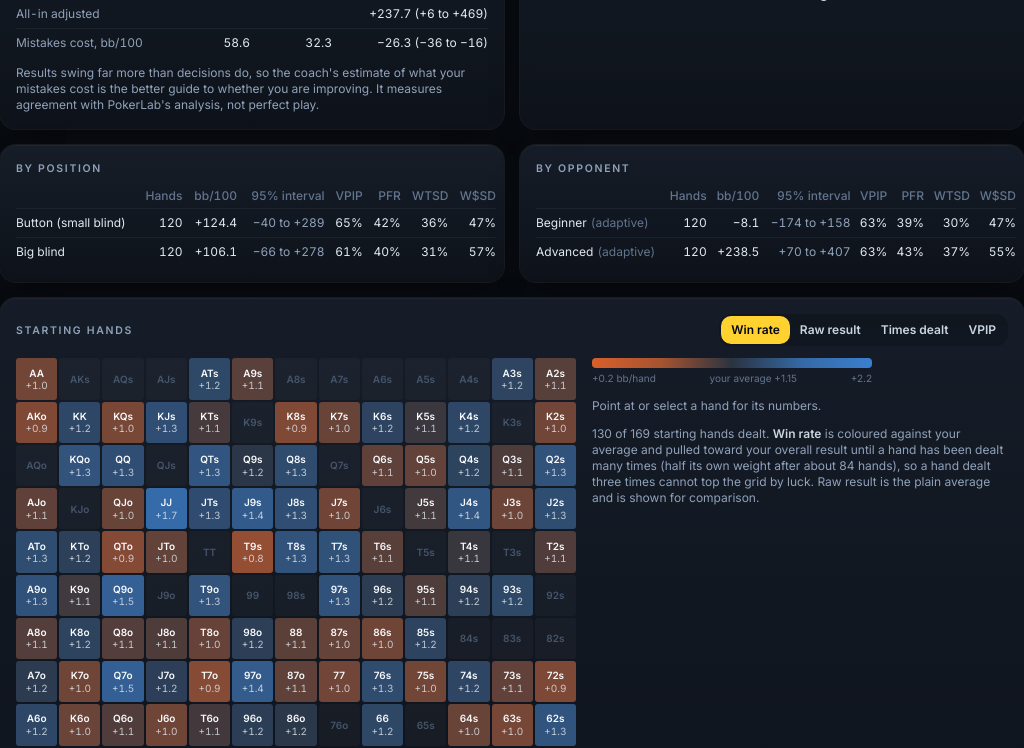
Test case: Stats view › shows the win rate with its interval, verdict, chart, luck, trend, segments and grid
(page scrolled)
Expected: the row with test id "trend-quality" is shown, x1=16 y1=28 x2=488 y2=57
Expected: the text "Beginner" is shown, x1=536 y1=216 x2=587 y2=230
Click the button "AA +1.0". click: (37, 379)
box: x1=16 y1=358 x2=57 y2=400
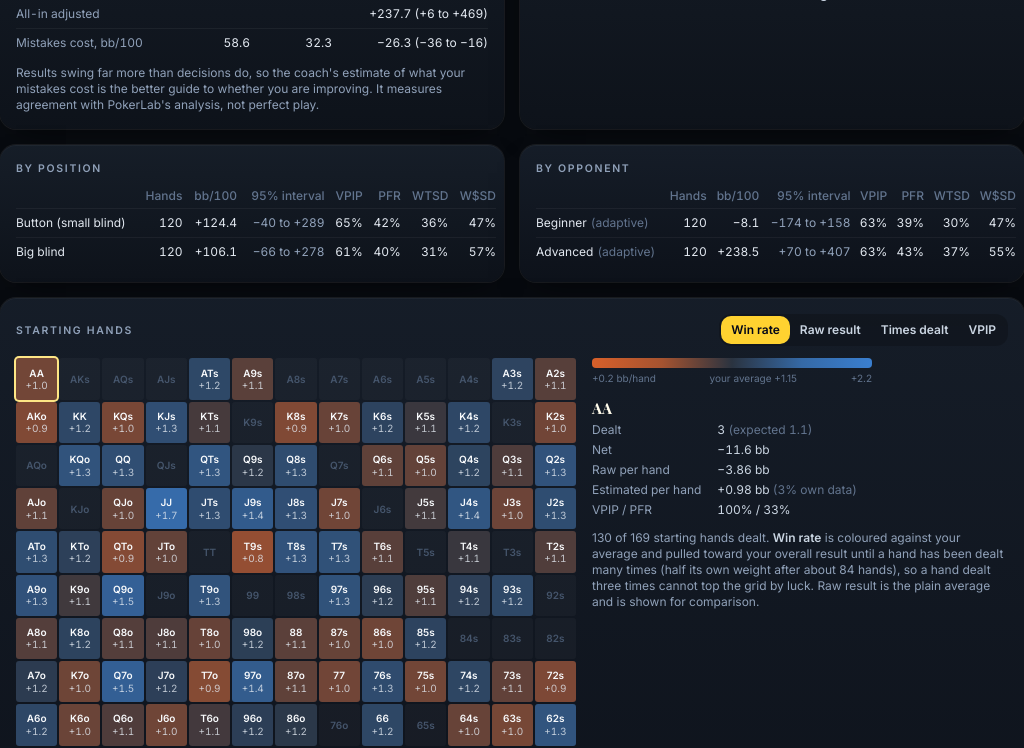
Expected: the element with test id "cell-detail" shows "AA", x1=592 y1=398 x2=612 y2=418
Click the button "Times dealt". click: (915, 330)
box: x1=871 y1=316 x2=958 y2=344
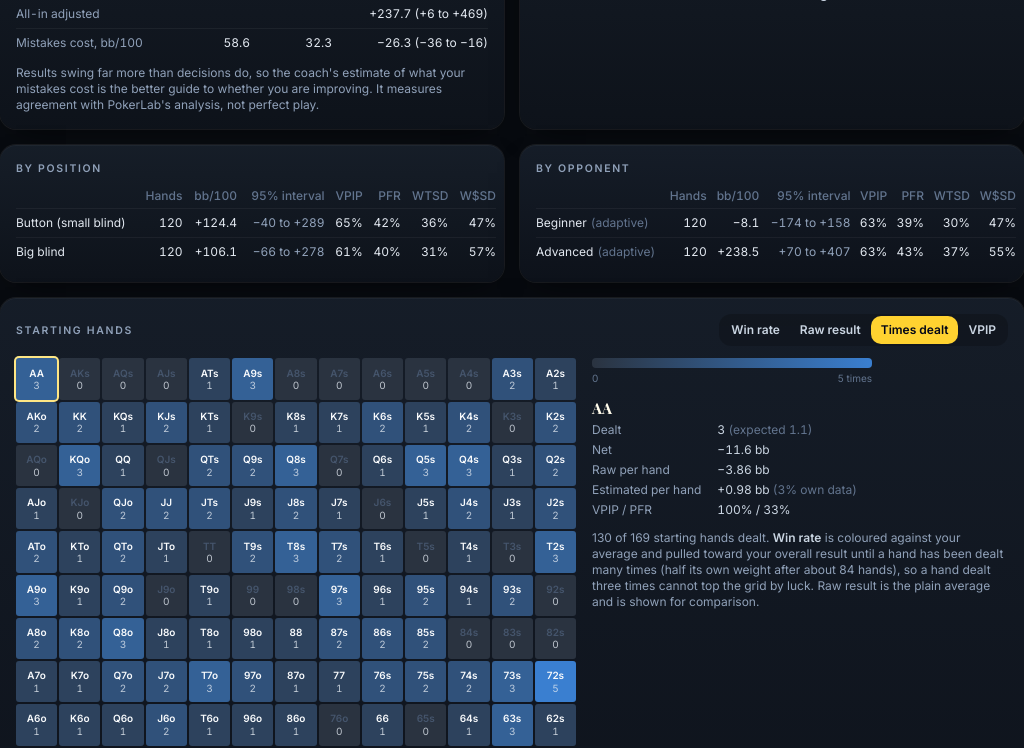
Expected: the element with test id "grid-legend" shows "times", x1=838 y1=372 x2=872 y2=384
